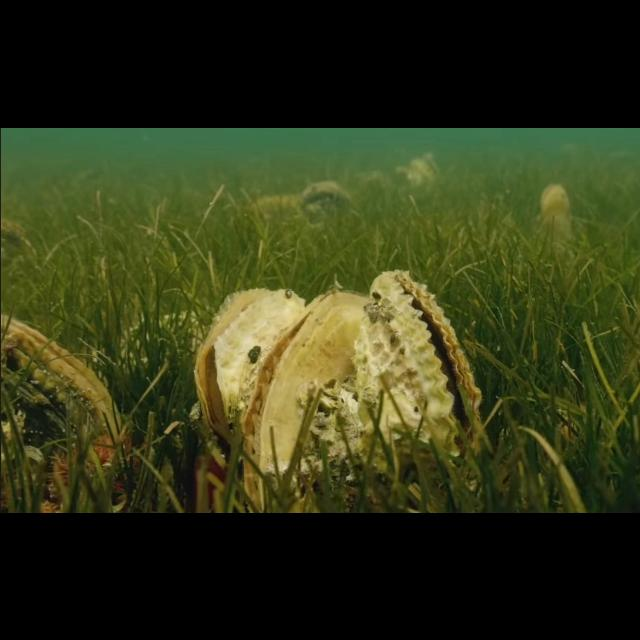Oyster-Closed: (0, 311, 120, 513), (294, 177, 354, 217)
Oyster-Open: (346, 268, 482, 502), (238, 285, 369, 513), (193, 285, 304, 457), (536, 180, 568, 228), (404, 149, 438, 187)
